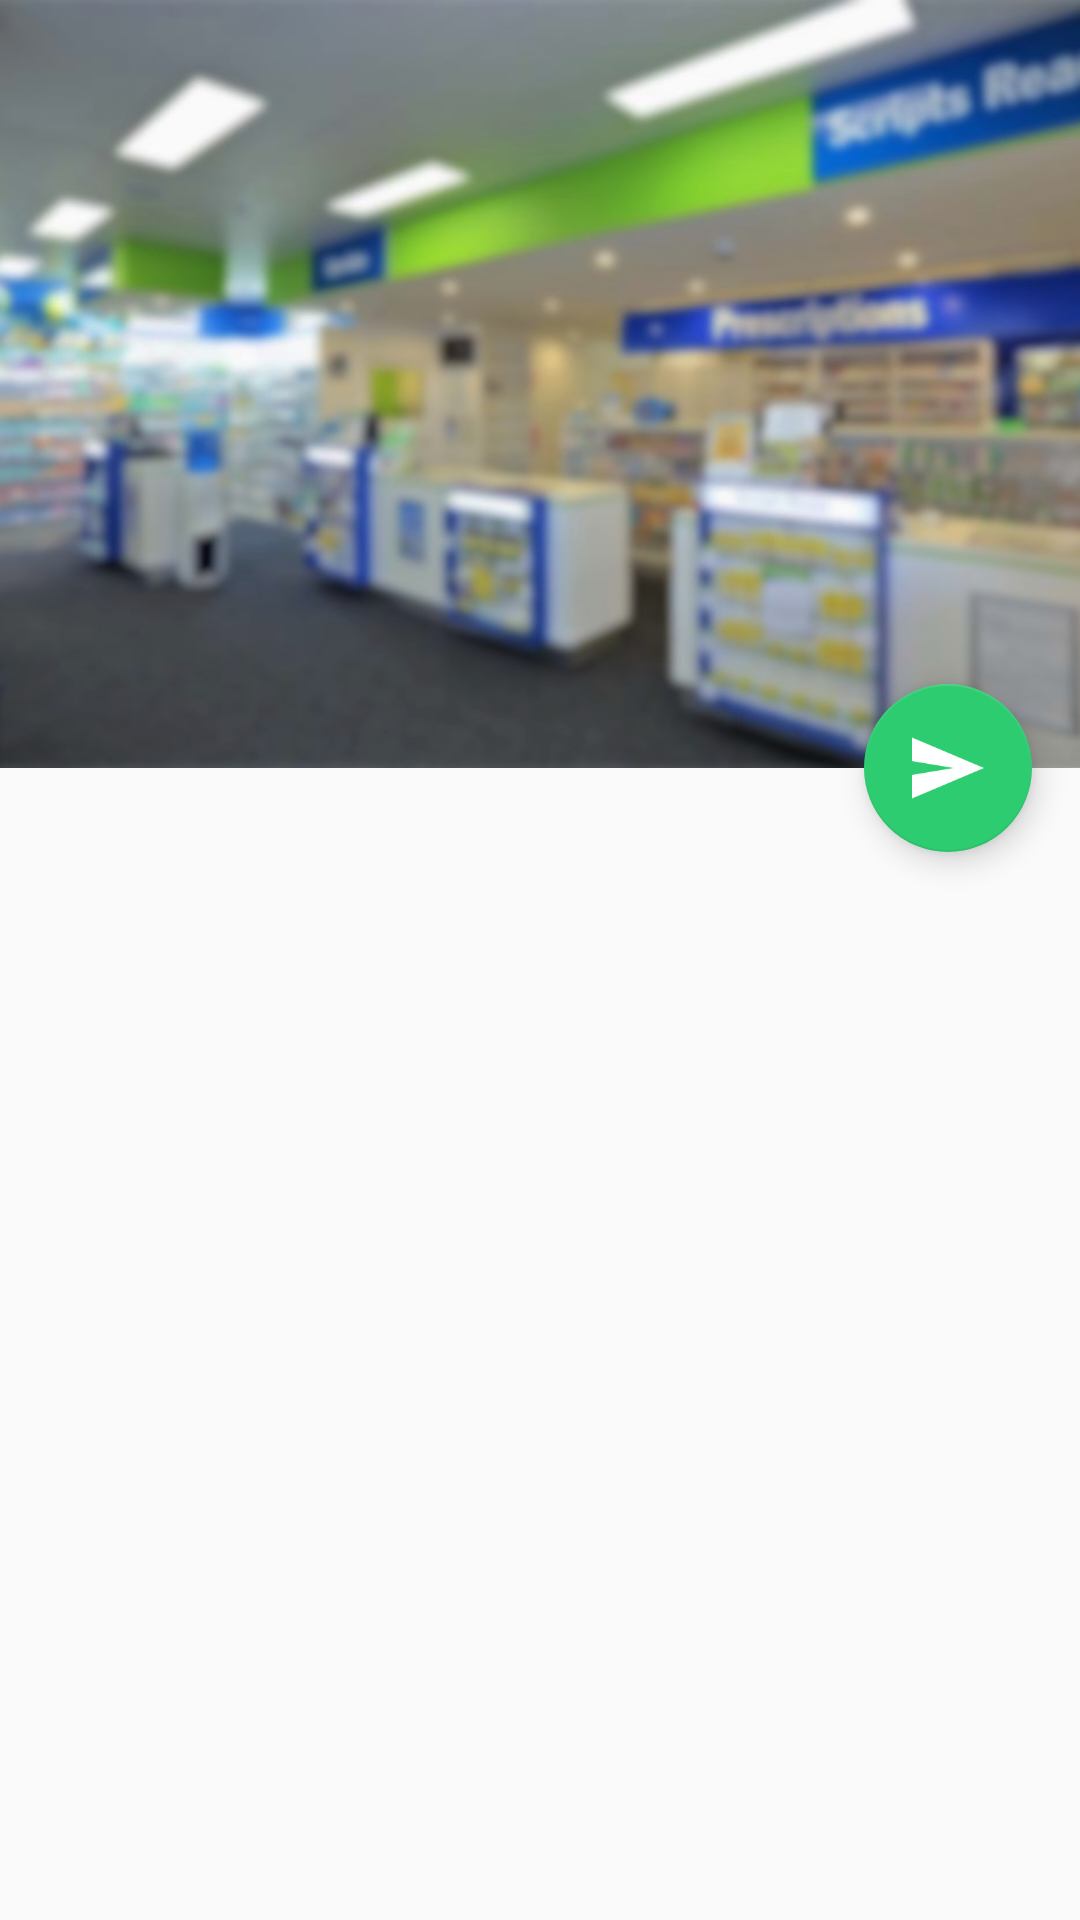

Icon click points for this 1080px×1920px phone screenshot, format (x=x, y=y):
sent: (x=948, y=768)
